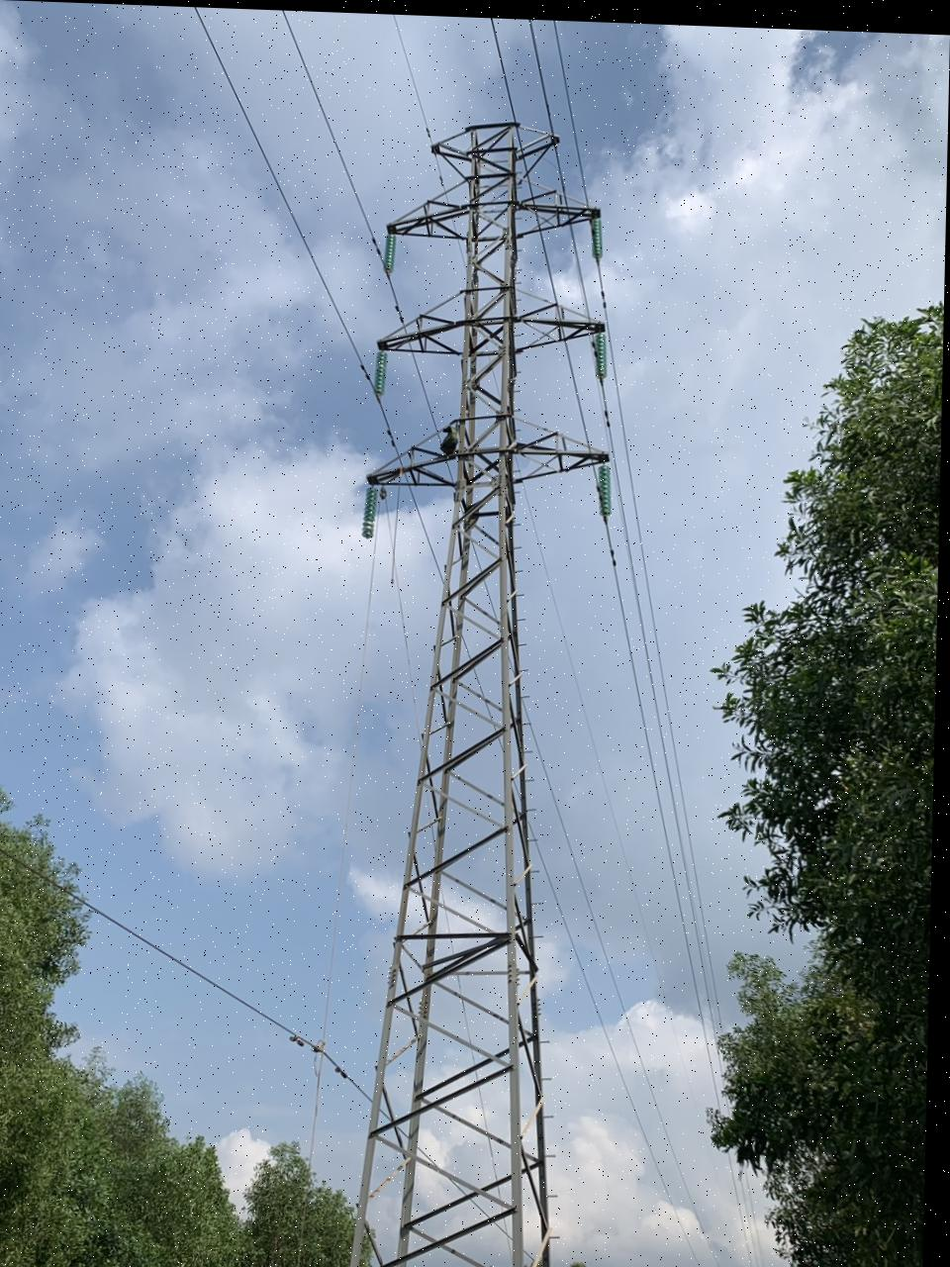tower: (323, 103, 627, 1267)
